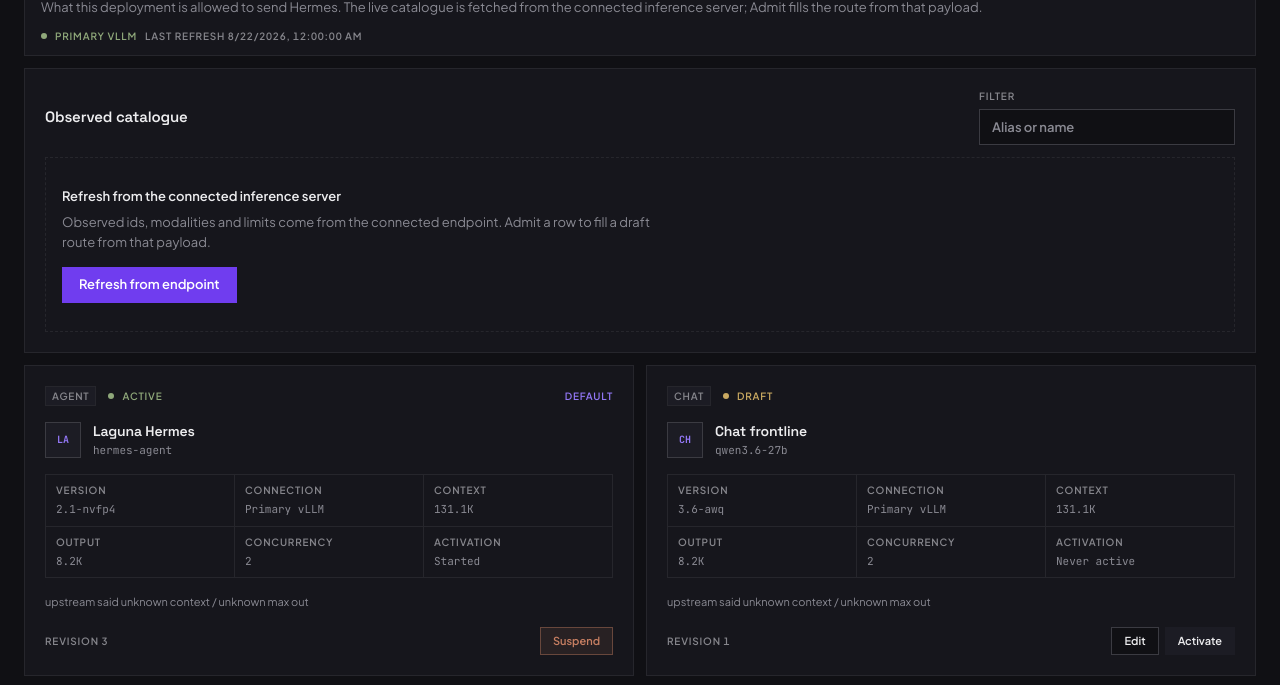
a route another operator moved first › saves the edit on the retry after a conflict
(page scrolled)
Expected: the heading "Laguna Hermes" is shown, [93, 422, 195, 440]
Click the button "Edit" at (1135, 641), box [1112, 627, 1159, 655]
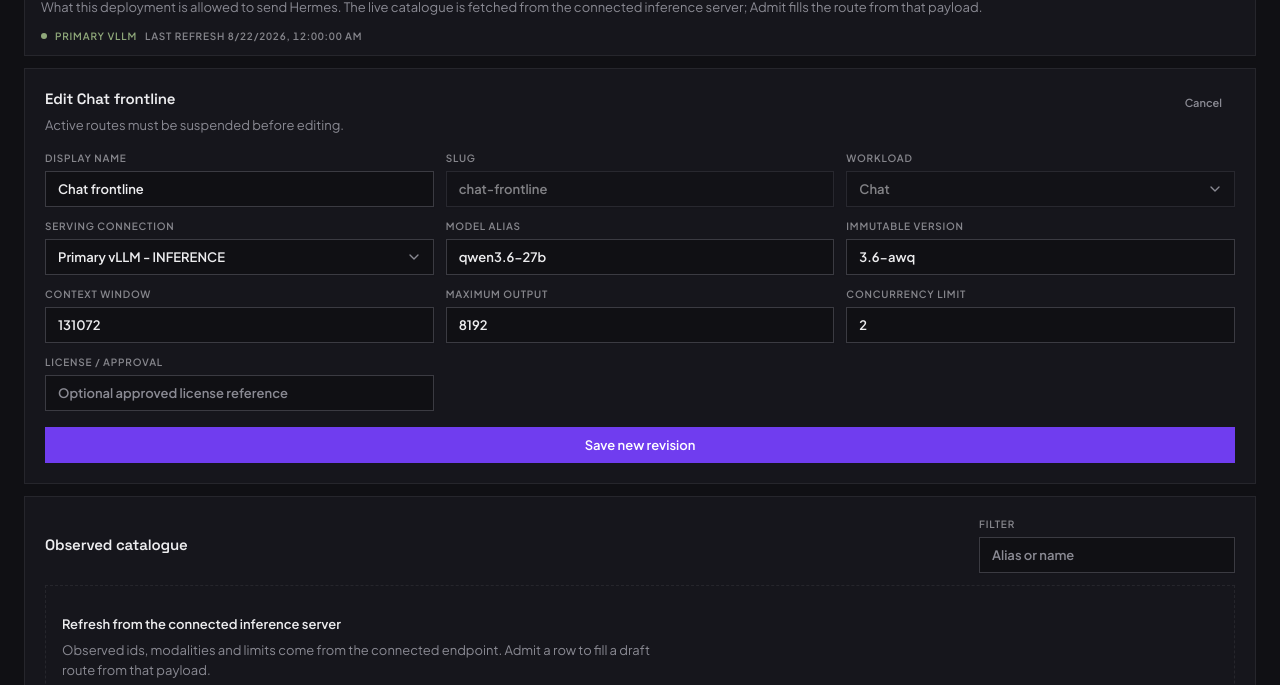
Click the button "Save new revision" at (640, 445), box [45, 427, 1235, 463]
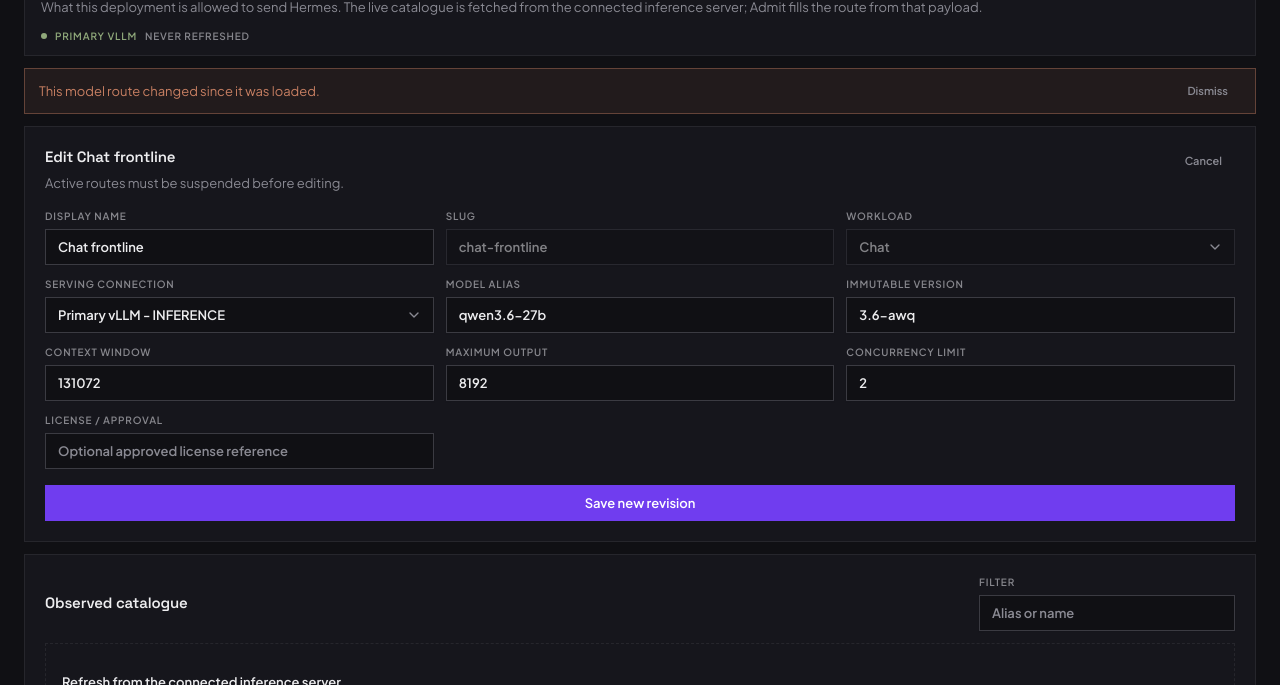
Now the text "This model route changed since it was loaded." is shown, box [39, 81, 320, 101]
Click the button "Save new revision" at (640, 503), box [45, 485, 1235, 521]
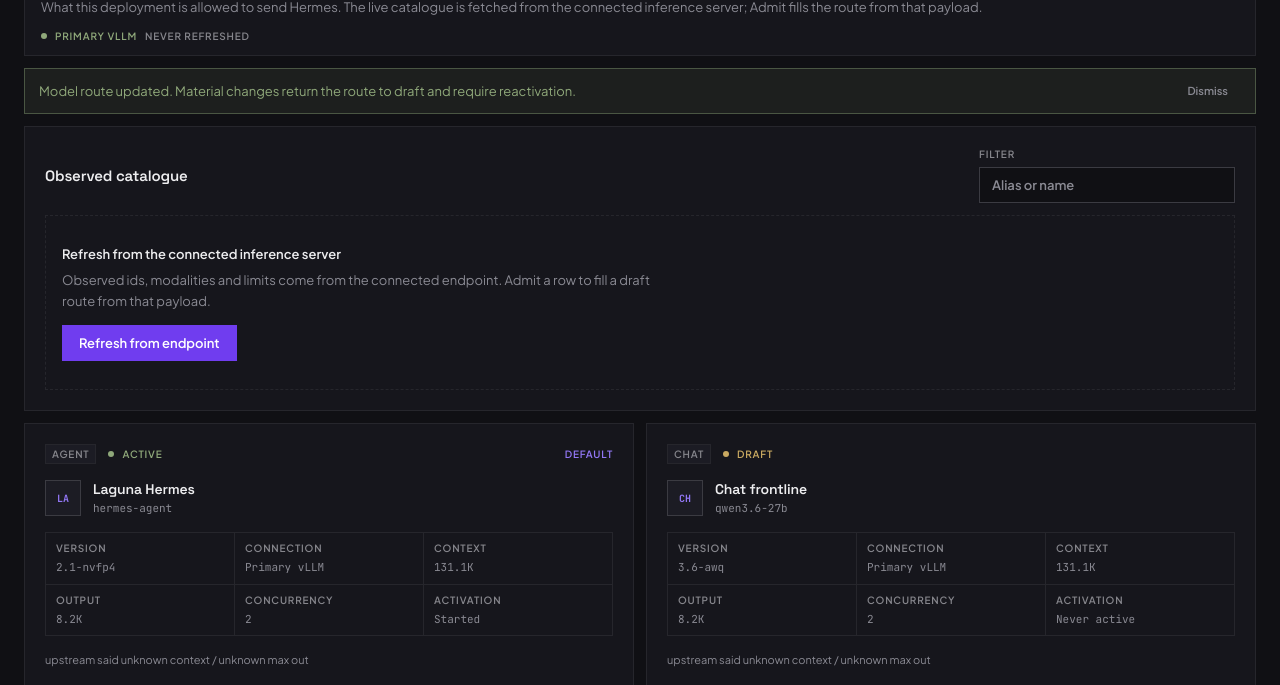
Now the text "Model route updated" is shown, box [39, 83, 576, 99]
